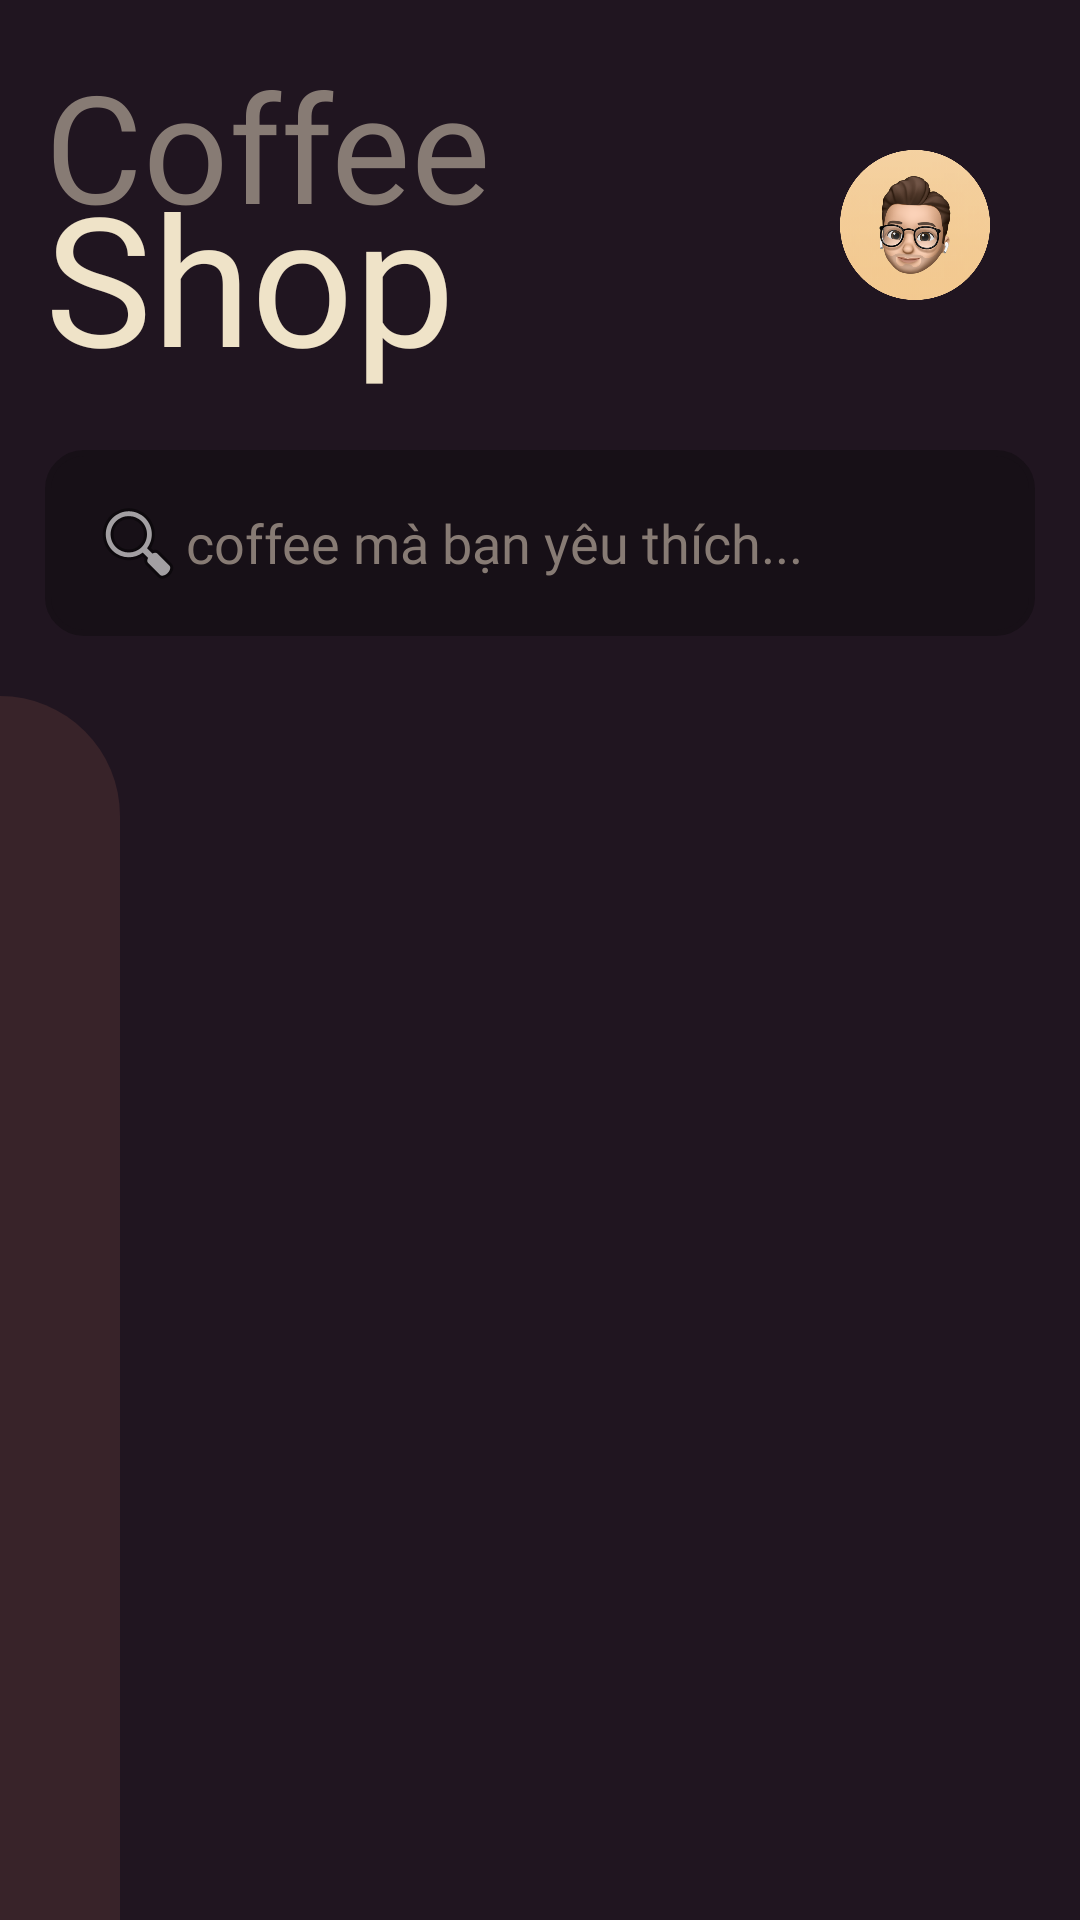

Named icons in this screenshot (1080 × 1920) and their bounding boxes, bbox=[x1, y1, x2, y2]:
user: bbox=[840, 150, 990, 300]
